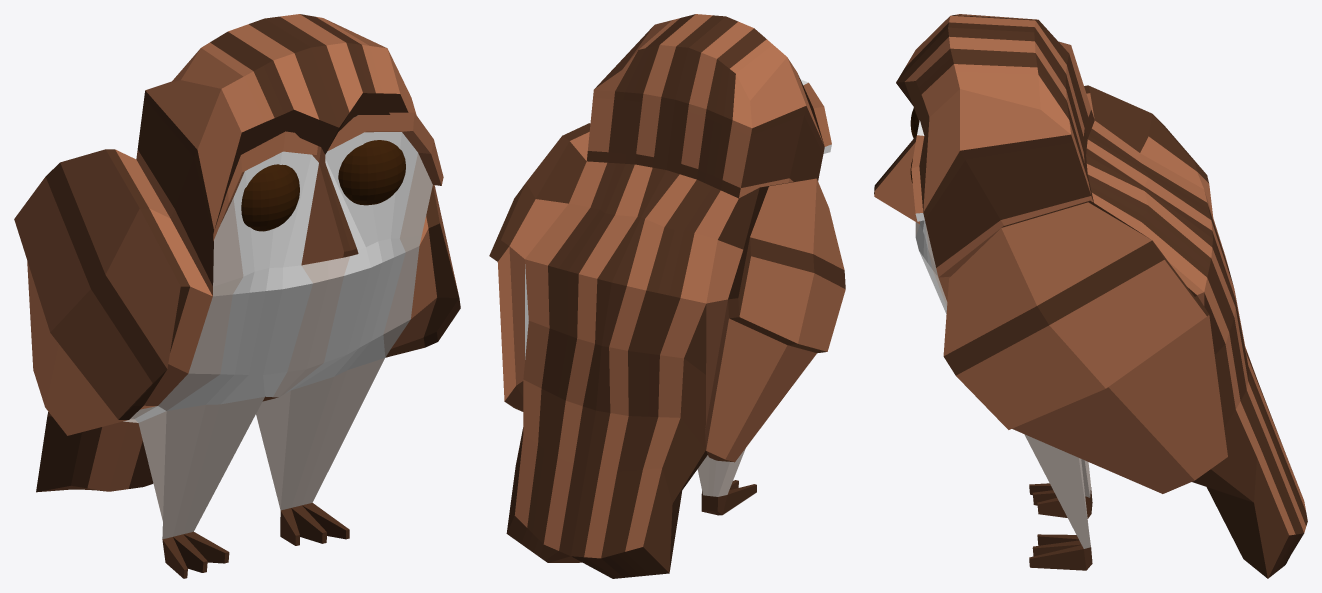
The model's file is Owlmodel_1.fbx.
3 views of the same model, side by side, from view 1: azimuth 30°, elevation 25°; view 2: azimuth 150°, elevation 25°; view 3: azimuth 270°, elevation 25° (orthographic). The views are drawn at different scales.
Visible parts, largest first — view 1: Cube; view 2: Cube; view 3: Cube.
Boxes of the visible parts, left/top/right/bottom form: Cube: left=14, top=14, right=460, bottom=578; Cube: left=489, top=14, right=845, bottom=578; Cube: left=874, top=14, right=1307, bottom=578.
Bounding box in the file's own units: 307 × 471 × 356.
